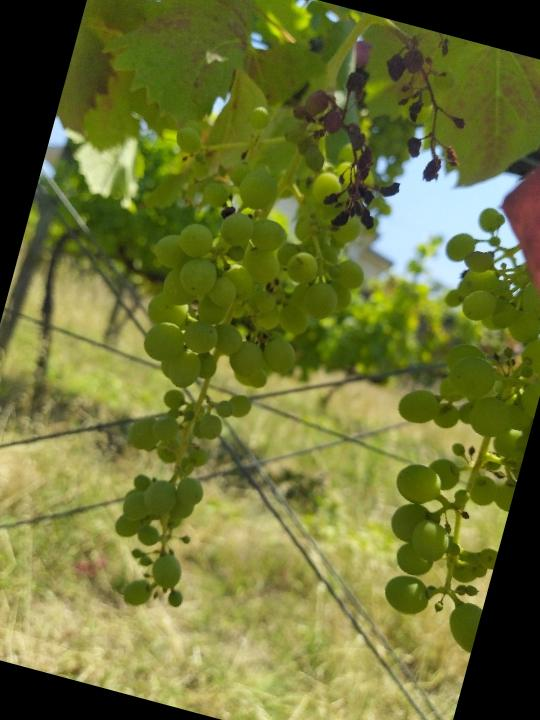grape: (41, 174, 377, 644), (340, 195, 540, 659), (265, 6, 492, 259)
